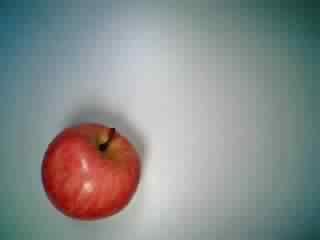apple: (38, 120, 145, 224)
